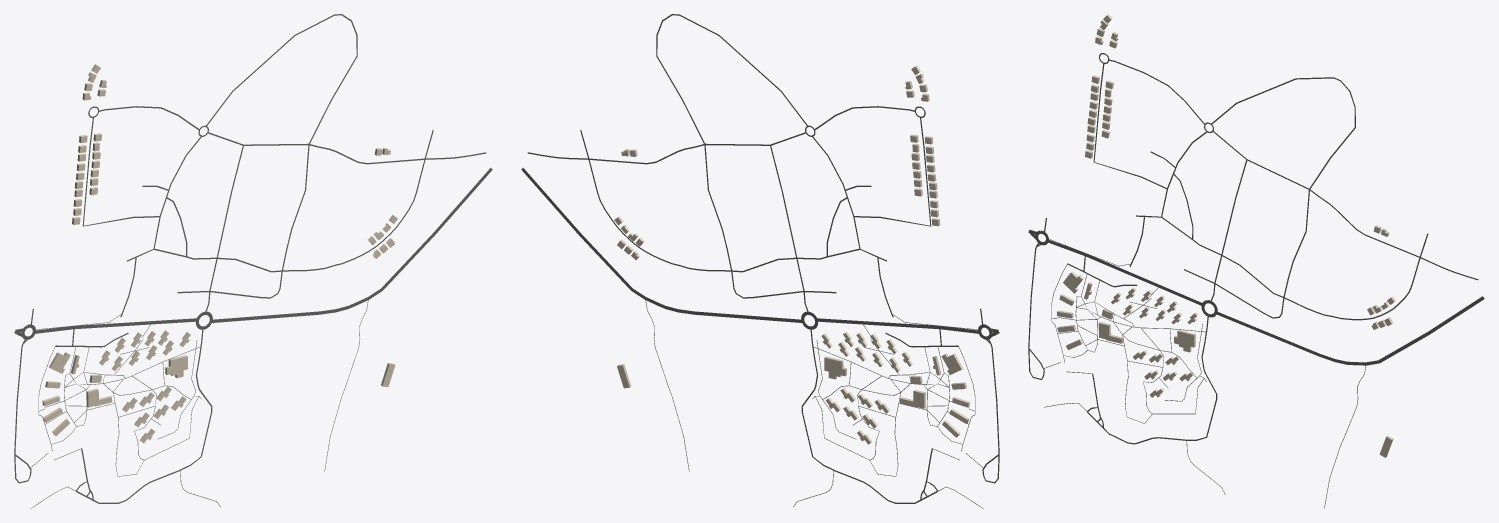
The model's file is historic-palestine-07_29_3491_3234.glb.
3 renders of one model, left to right at view 1: azimuth 30°, elevation 25°; view 2: azimuth 150°, elevation 25°; view 3: azimuth 330°, elevation 25°, orthographic. The views are drawn at different scales.
Parts seen in each view (by area): view 1: Road 5711.003, Road דרך הפרדסים, Road 5711, Road שביל החלב.001, Road דרך הפרחים.001; view 2: Road 5711.003, Road דרך הפרדסים, Road 5711, Road שביל החלב.001, Road דרך הפרחים.001; view 3: Road 5711.003, Road דרך הפרדסים, Road 5711, Road שביל החלב.001, Road דרך הפרחים.001.
Part boxes in pixels (x1,y1,x2,y2): Road 5711.003: (210, 168, 492, 322); Road דרך הפרדסים: (154, 130, 433, 272); Road 5711: (34, 318, 196, 333); Road שביל החלב.001: (208, 132, 486, 164); Road דרך הפרחים.001: (206, 14, 357, 143); Road 5711.003: (521, 168, 803, 322); Road דרך הפרדסים: (580, 130, 859, 272); Road 5711: (816, 318, 978, 333); Road שביל החלב.001: (527, 132, 805, 164); Road דרך הפרחים.001: (656, 14, 807, 143); Road 5711.003: (1215, 296, 1484, 365); Road דרך הפרדסים: (1161, 217, 1428, 320); Road 5711: (1047, 239, 1202, 305); Road שביל החלב.001: (1212, 131, 1478, 280); Road דרך הפרחים.001: (1211, 77, 1355, 188).
Size of the model in its own units: 1212 by 1144 by 8.7.
